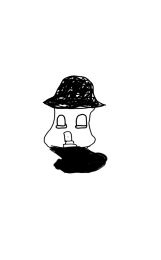door: (62, 130, 77, 148)
open_window: (75, 113, 90, 131), (54, 113, 68, 130)
shaded_roof: (40, 73, 110, 110)
shadow: (45, 143, 111, 176)
small_house: (1, 1, 161, 260)
wall: (43, 105, 99, 152)
